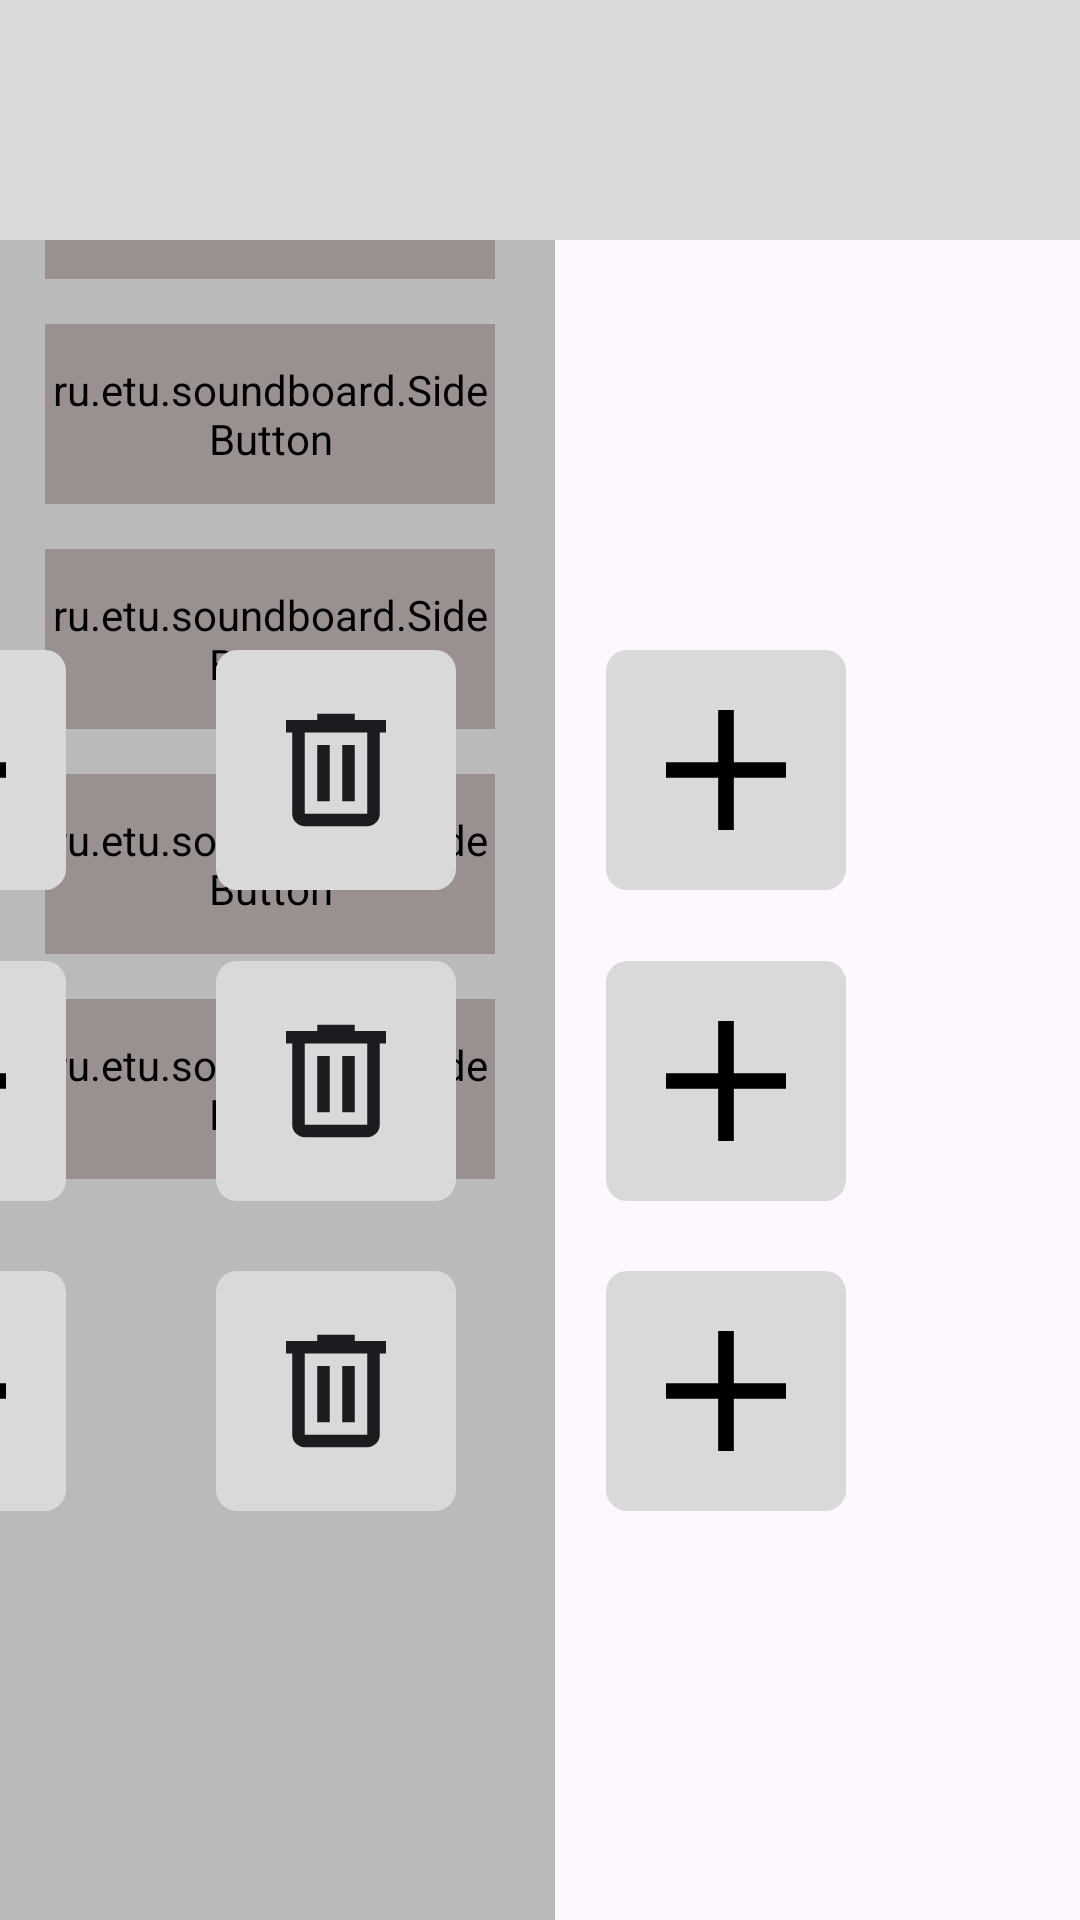

Locate icon controls on the screen. Image size 1080 x 1920, boxes as (x1, y1, x2, y2).
trash: (216, 650, 456, 890), (216, 961, 456, 1201), (216, 1271, 456, 1511)
